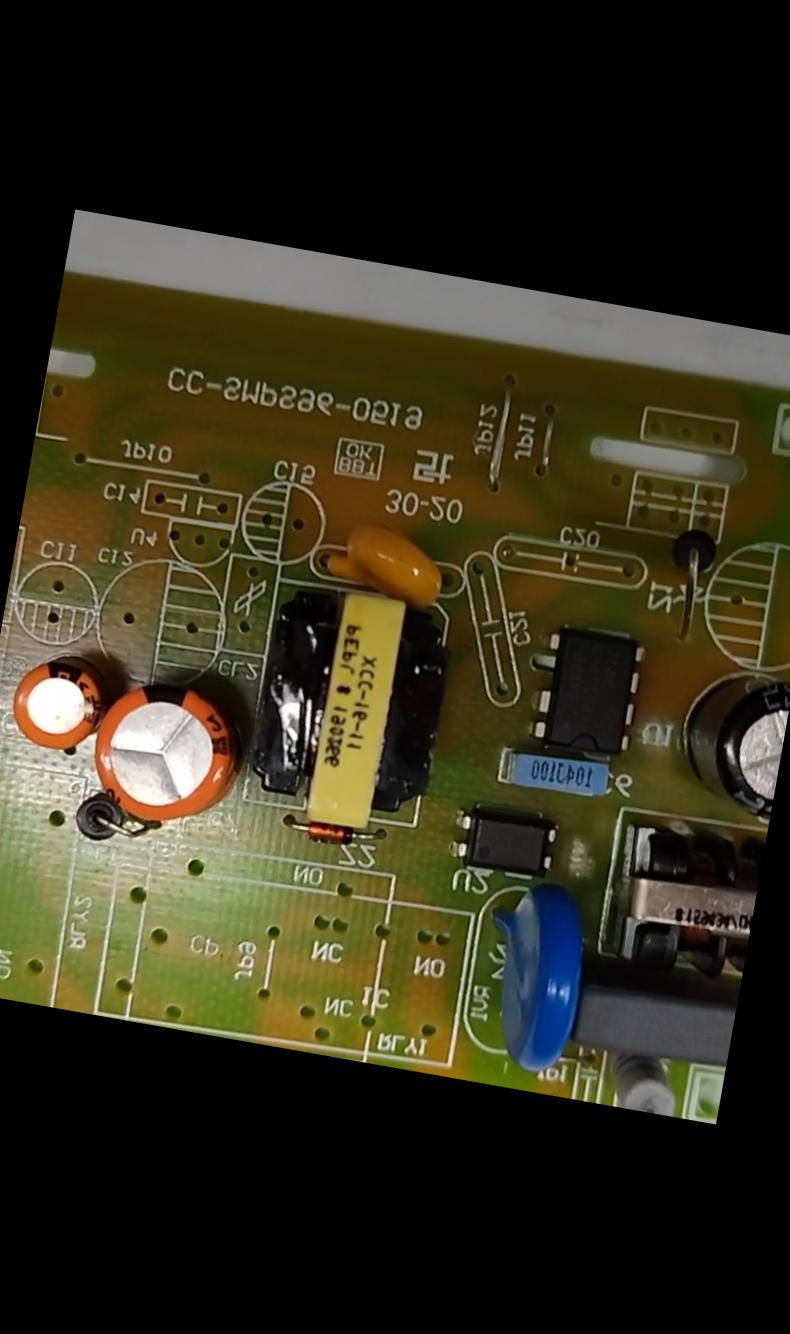Cap1: (82, 667, 248, 834)
Cap2: (3, 652, 108, 754)
Cap3: (664, 669, 789, 819)
MOSFET: (526, 624, 650, 758)
Mov: (471, 890, 592, 1078)
Resistor: (602, 1052, 682, 1116)
Transformer: (235, 578, 455, 844), (605, 814, 765, 986)
